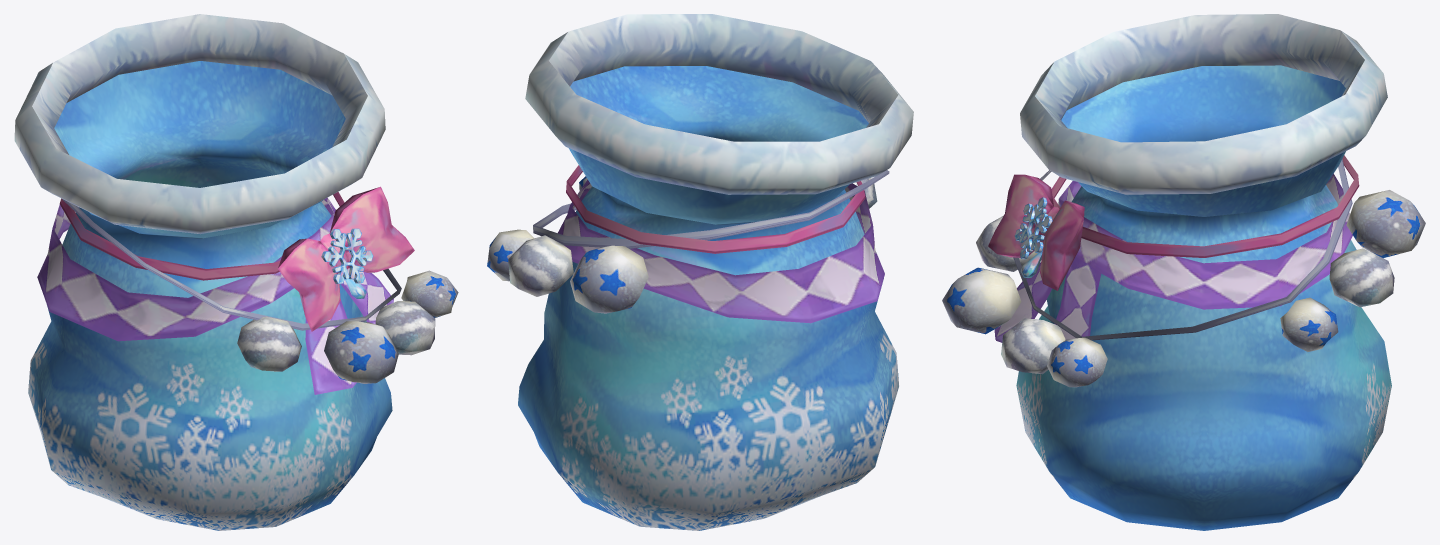
File: Hero_Lilia_Cos18Christmas_Weapon.fbx
The picture shows the model from 3 angles, left to right: view 1: azimuth 30°, elevation 25°; view 2: azimuth 150°, elevation 25°; view 3: azimuth 270°, elevation 25°; orthographic projection. The views are drawn at different scales.
Parts seen in each view (by area): view 1: Hero_Lilia_Cos18Christmas_Weapon; view 2: Hero_Lilia_Cos18Christmas_Weapon; view 3: Hero_Lilia_Cos18Christmas_Weapon.
Part boxes in pixels (x1,y1,x2,y2): Hero_Lilia_Cos18Christmas_Weapon: (14,14,458,530); Hero_Lilia_Cos18Christmas_Weapon: (487,14,913,530); Hero_Lilia_Cos18Christmas_Weapon: (942,14,1425,530).
Size of the model in its own units: 0.3936 by 0.4279 by 0.4508.
Materials: 1 (1 with a texture image).
